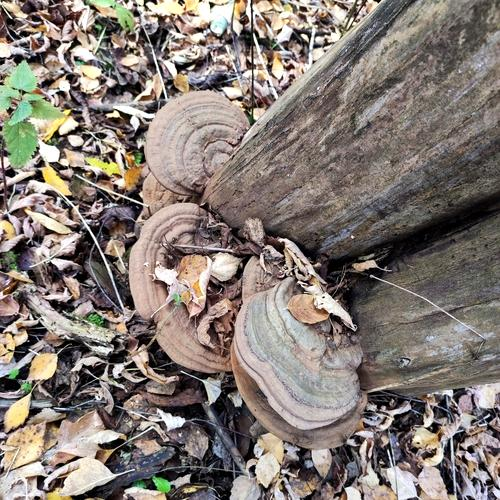Ganoderma - Fruit Body: (235, 282, 359, 447), (128, 204, 234, 371), (146, 87, 255, 192)
